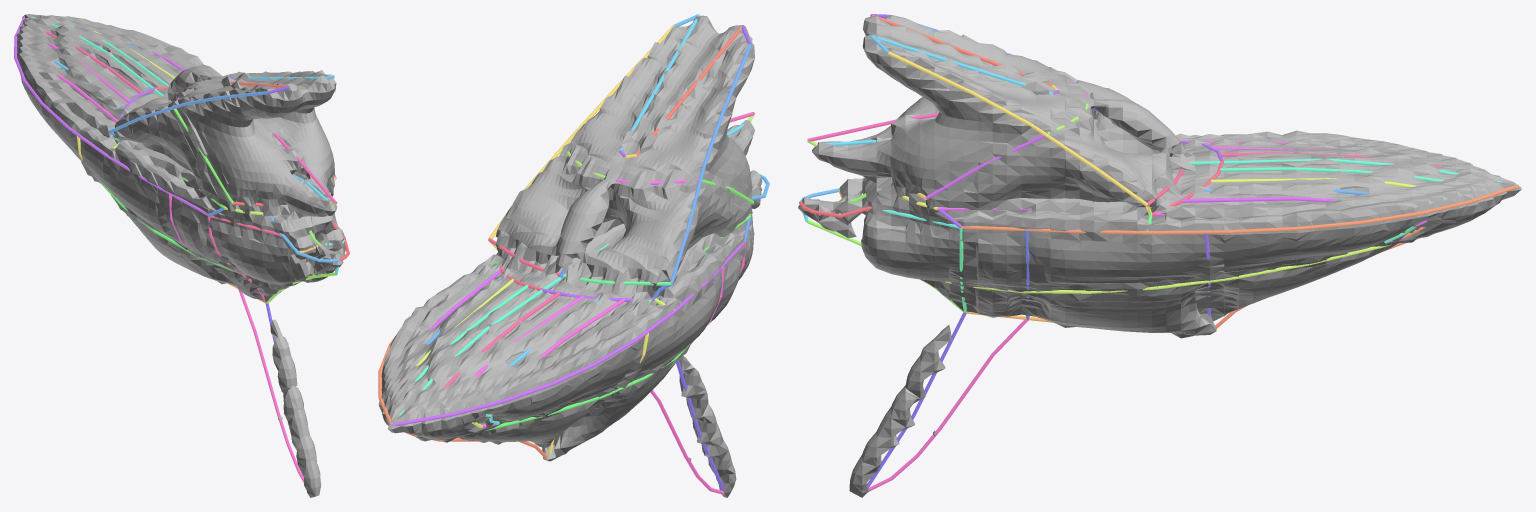
Rendered from ils_boat.gltf.
The picture shows the model from 3 angles, left to right: view 1: azimuth 30°, elevation 25°; view 2: azimuth 150°, elevation 25°; view 3: azimuth 270°, elevation 25°; orthographic projection. The views are drawn at different scales.
Size of the model in its own units: 0.2458 by 0.5734 by 0.7952.
